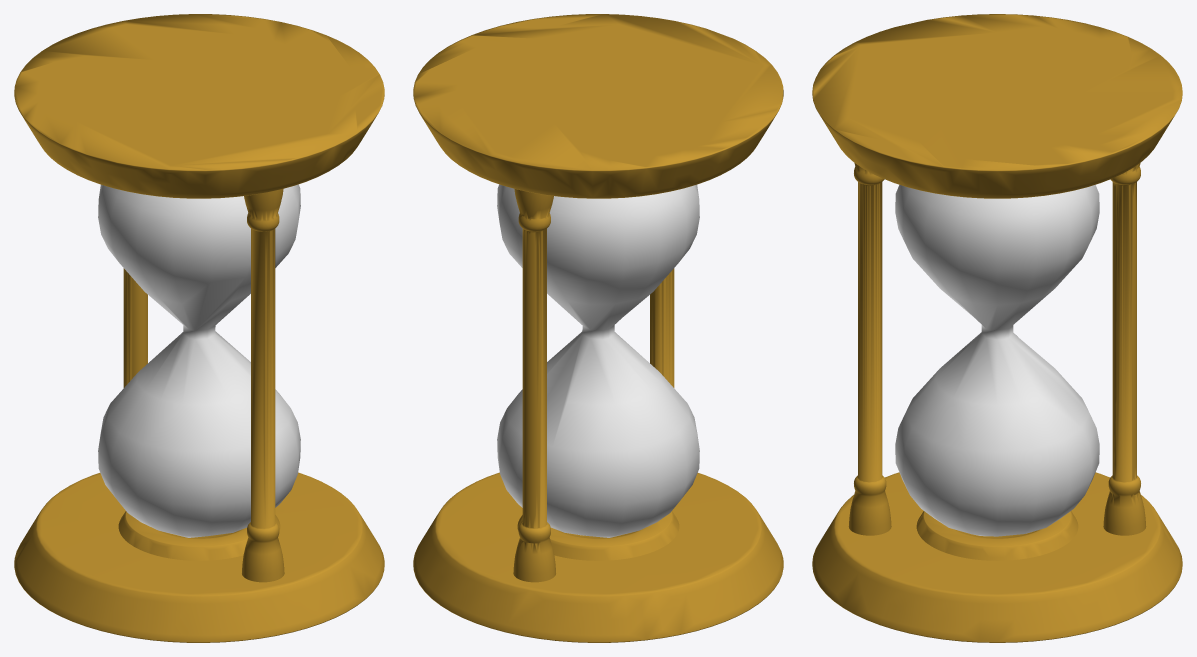
Rendered from hourglass.glb.
3 views of the same model, side by side, from view 1: azimuth 30°, elevation 25°; view 2: azimuth 150°, elevation 25°; view 3: azimuth 270°, elevation 25° (orthographic).
Visible parts, largest first — view 1: Object_4, Object_2, Object_5; view 2: Object_4, Object_2, Object_5; view 3: Object_4, Object_2, Object_5.
Boxes of the visible parts, x1=… form: Object_4: x1=14, y1=14, x2=384, y2=642; Object_2: x1=98, y1=184, x2=300, y2=537; Object_5: x1=123, y1=189, x2=284, y2=582; Object_4: x1=413, y1=14, x2=783, y2=642; Object_2: x1=497, y1=184, x2=699, y2=537; Object_5: x1=513, y1=189, x2=674, y2=582; Object_4: x1=812, y1=14, x2=1182, y2=642; Object_2: x1=895, y1=185, x2=1099, y2=536; Object_5: x1=848, y1=163, x2=1146, y2=535.
Bounding box in the file's own units: 2.27 × 3.2 × 2.27.
